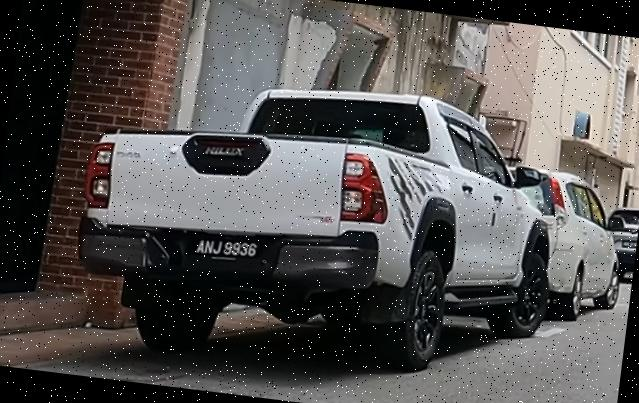License_Plate: (193, 234, 260, 265)
car: (65, 54, 574, 398), (491, 165, 634, 327)
